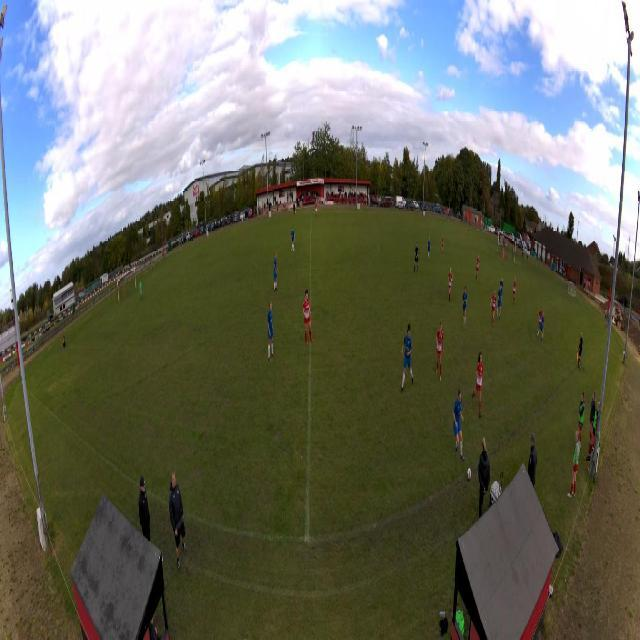player: (400, 323, 414, 395), (453, 388, 466, 462), (471, 350, 484, 420), (302, 288, 314, 345), (267, 300, 276, 362), (435, 320, 444, 382), (490, 289, 498, 329), (537, 310, 546, 342), (462, 284, 468, 330), (447, 266, 453, 303), (497, 285, 503, 322), (273, 251, 278, 292), (413, 242, 419, 273), (538, 305, 543, 336), (513, 277, 518, 306), (475, 254, 480, 283), (426, 235, 431, 262), (290, 226, 295, 252), (139, 280, 144, 302), (500, 274, 504, 300), (441, 235, 444, 257), (502, 247, 505, 266), (315, 202, 318, 219)
